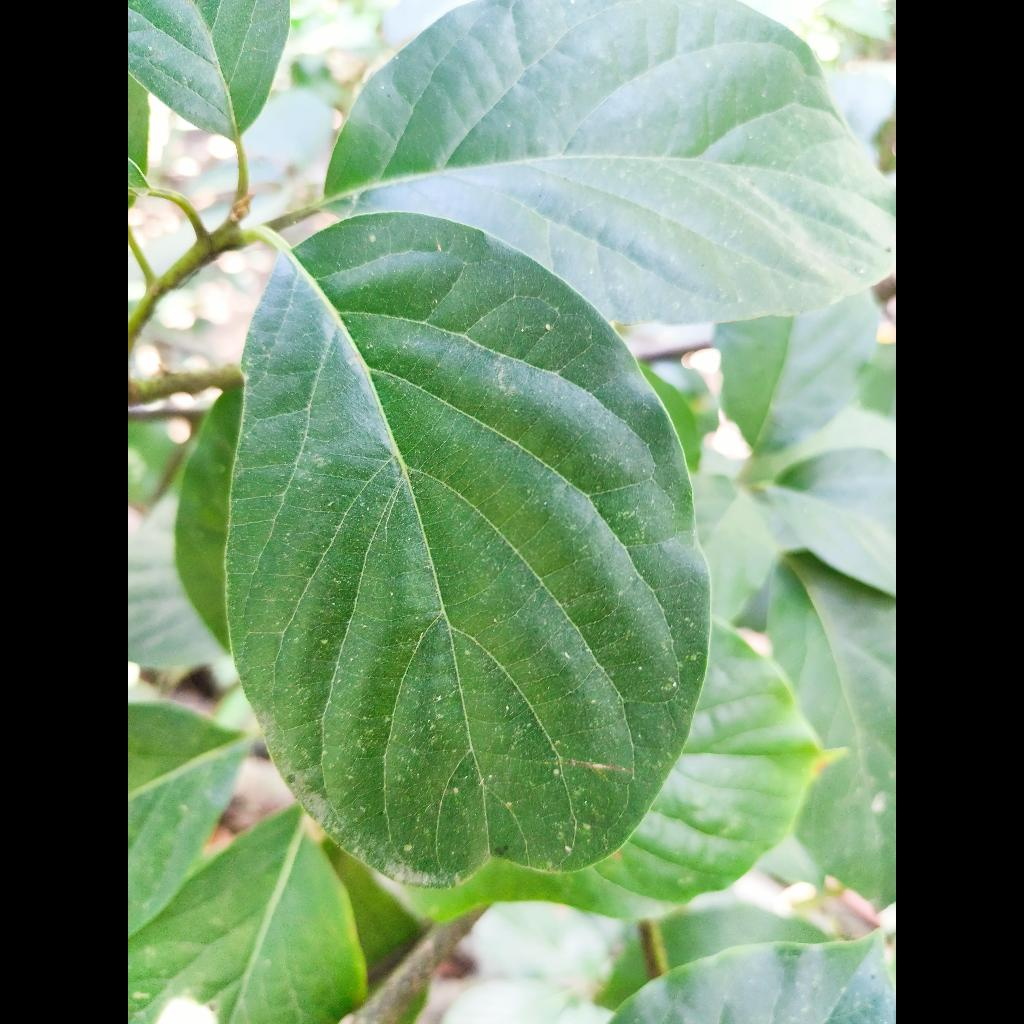hoja_sana: (227, 213, 709, 885)
